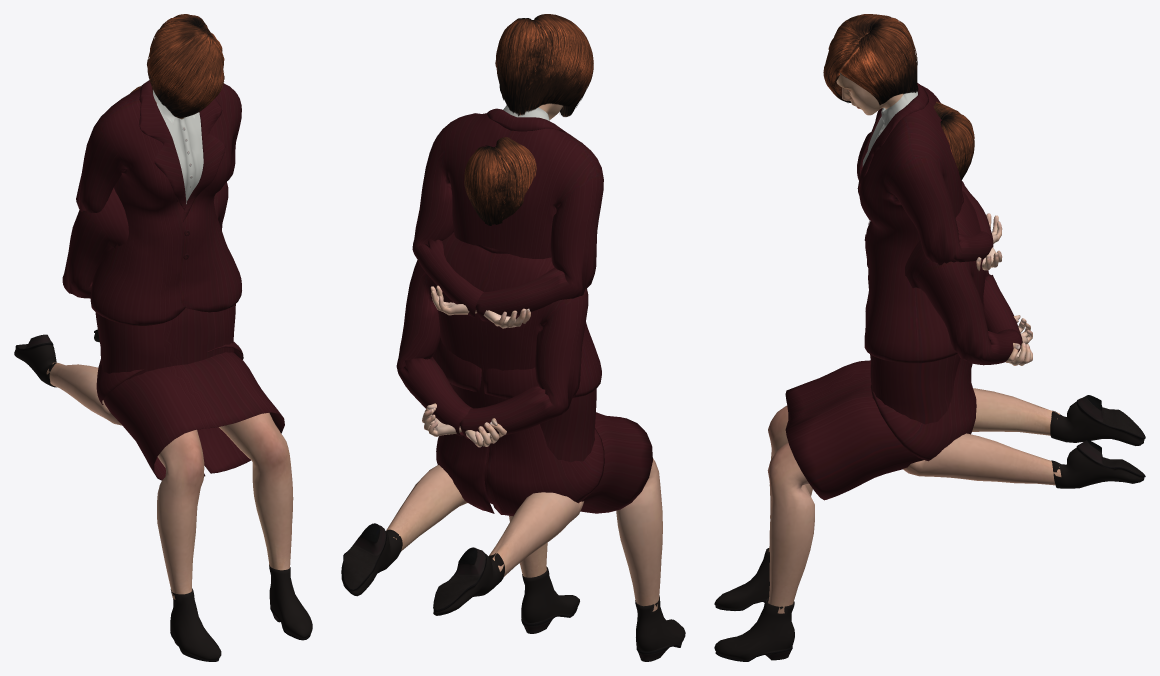
File: civ_frau_geisel.glb
3 views of the same model, side by side, from view 1: azimuth 30°, elevation 25°; view 2: azimuth 150°, elevation 25°; view 3: azimuth 270°, elevation 25° (orthographic). The views are drawn at different scales.
Visible parts, largest first — view 1: kneel, bound_seat; view 2: kneel, bound_seat; view 3: kneel, bound_seat.
Boxes of the visible parts, x1,y1,x2,y2 form: kneel: [14, 14, 241, 425]; bound_seat: [62, 85, 312, 661]; kneel: [341, 14, 603, 615]; bound_seat: [396, 137, 685, 661]; kneel: [823, 14, 1145, 488]; bound_seat: [714, 101, 1032, 661].
Size of the model in its own units: 0.4553 by 1.65 by 1.05.
Materials: 7 (7 with a texture image).
